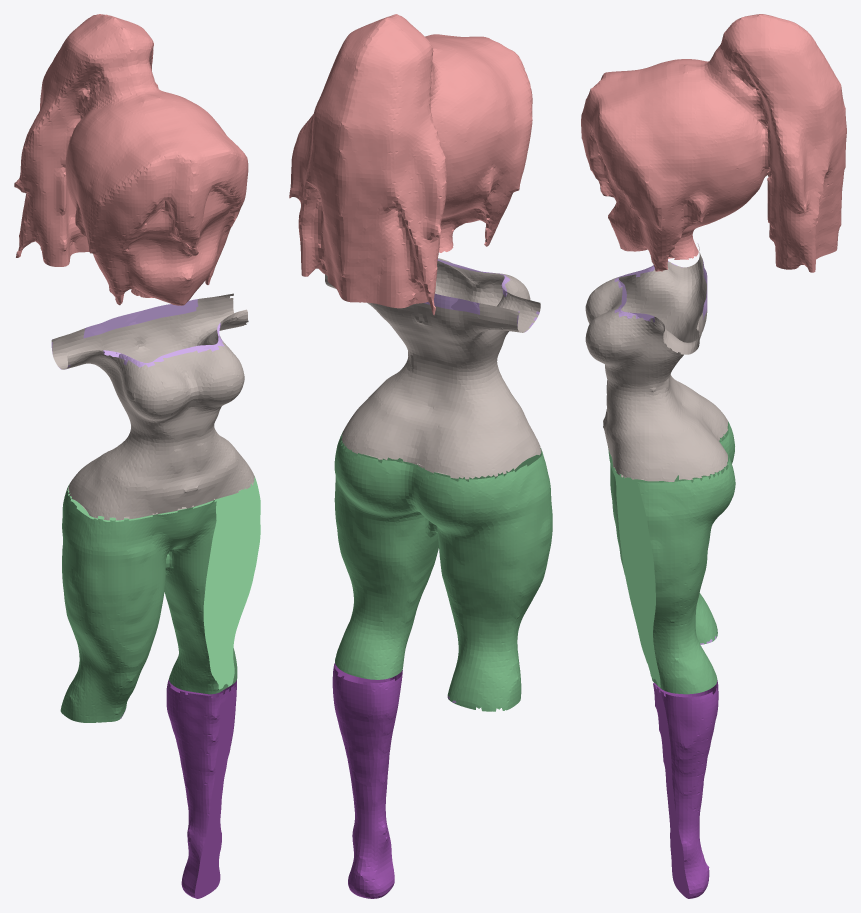
Rendered from character_separated_capped.glb.
The picture shows the model from 3 angles, left to right: view 1: azimuth 30°, elevation 25°; view 2: azimuth 150°, elevation 25°; view 3: azimuth 270°, elevation 25°; orthographic projection. The views are drawn at different scales.
Visible parts, largest first — view 1: world; view 2: world; view 3: world.
Part boxes in pixels (bbox=[...]): world: bbox=[14, 14, 260, 898]; world: bbox=[289, 14, 552, 898]; world: bbox=[581, 14, 846, 898].
Bounding box in the file's own units: 0.4477 × 1.96 × 0.5523.
